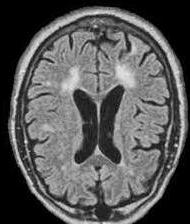Normal_Brain: (1, 1, 190, 224)
